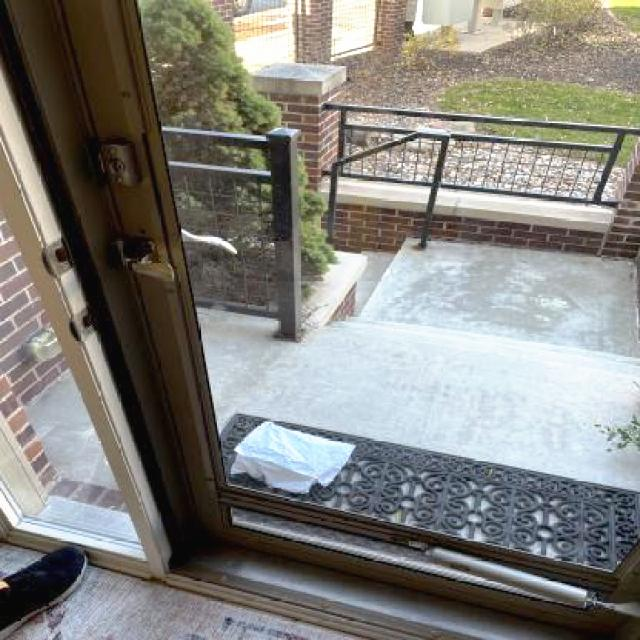Box: (232, 422, 354, 493)
